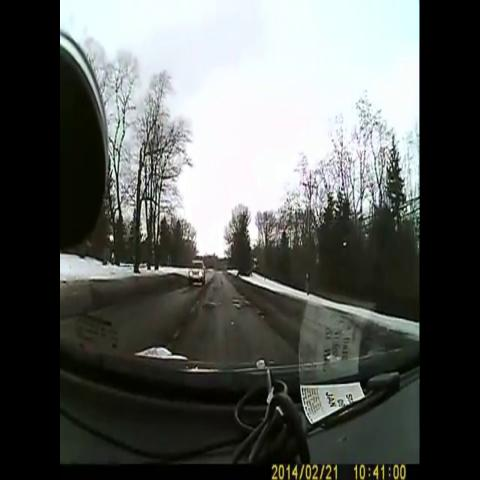pothole: (201, 288, 220, 322), (229, 292, 253, 318)
